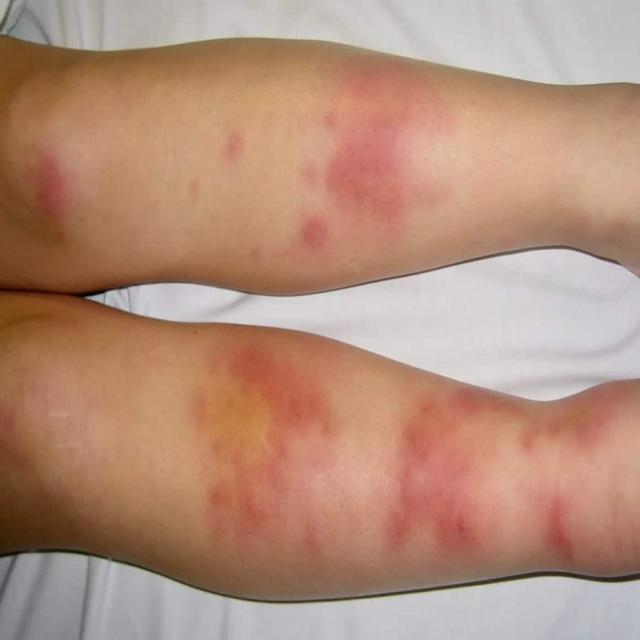Erythema nodosum: (183, 328, 555, 609), (174, 82, 478, 231)
